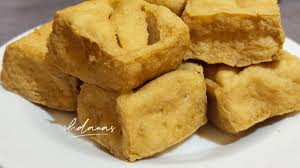Tahu goreng: (45, 1, 190, 92), (74, 77, 208, 162), (207, 57, 300, 137), (181, 0, 289, 68), (1, 20, 74, 110)
